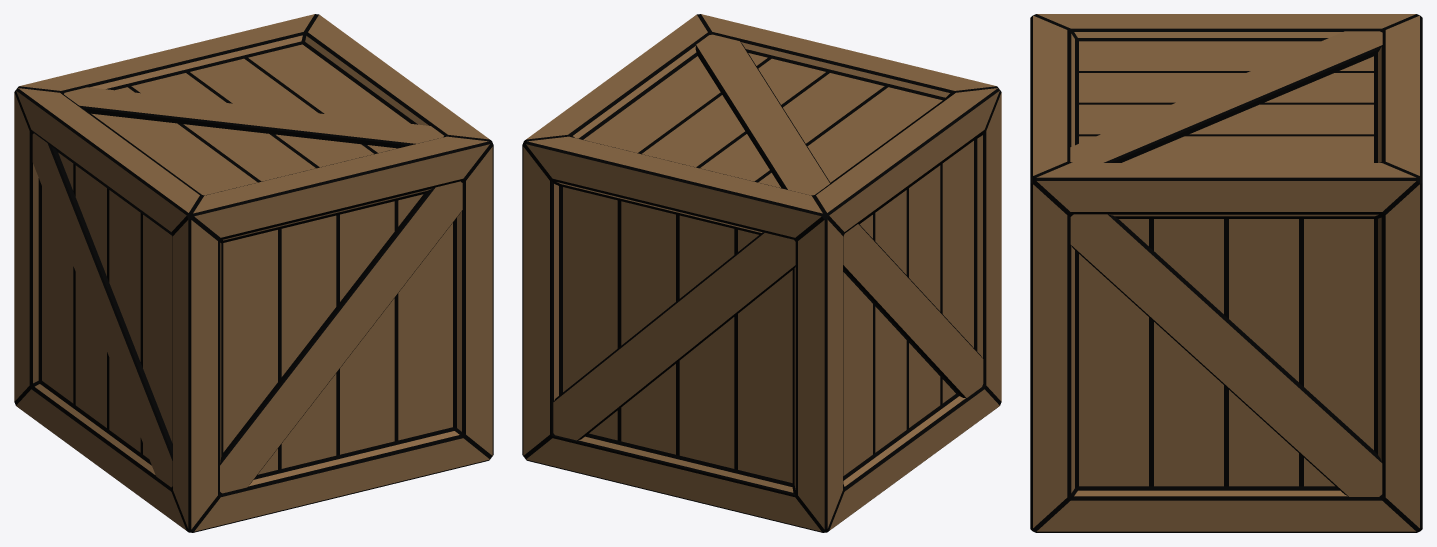
Rendered from crate.fbx.
3 views of the same model, side by side, from view 1: azimuth 30°, elevation 25°; view 2: azimuth 150°, elevation 25°; view 3: azimuth 270°, elevation 25° (orthographic). The views are drawn at different scales.
Visible parts, largest first — view 1: Cube, Cube.001, Cube.003, Cube.005; view 2: Cube, Cube.002, Cube.003, Cube.005; view 3: Cube, Cube.004, Cube.005.
Boxes of the visible parts, x1,y1,x2,y2 form: Cube: (14, 14, 493, 532); Cube.001: (220, 181, 462, 493); Cube.003: (32, 133, 172, 487); Cube.005: (64, 87, 443, 148); Cube: (522, 14, 1001, 532); Cube.002: (553, 232, 795, 440); Cube.003: (843, 224, 983, 397); Cube.005: (695, 34, 830, 195); Cube: (1030, 14, 1422, 532); Cube.004: (1070, 214, 1382, 496); Cube.005: (1070, 31, 1382, 162).
Size of the model in its own units: 200 by 200 by 200.
